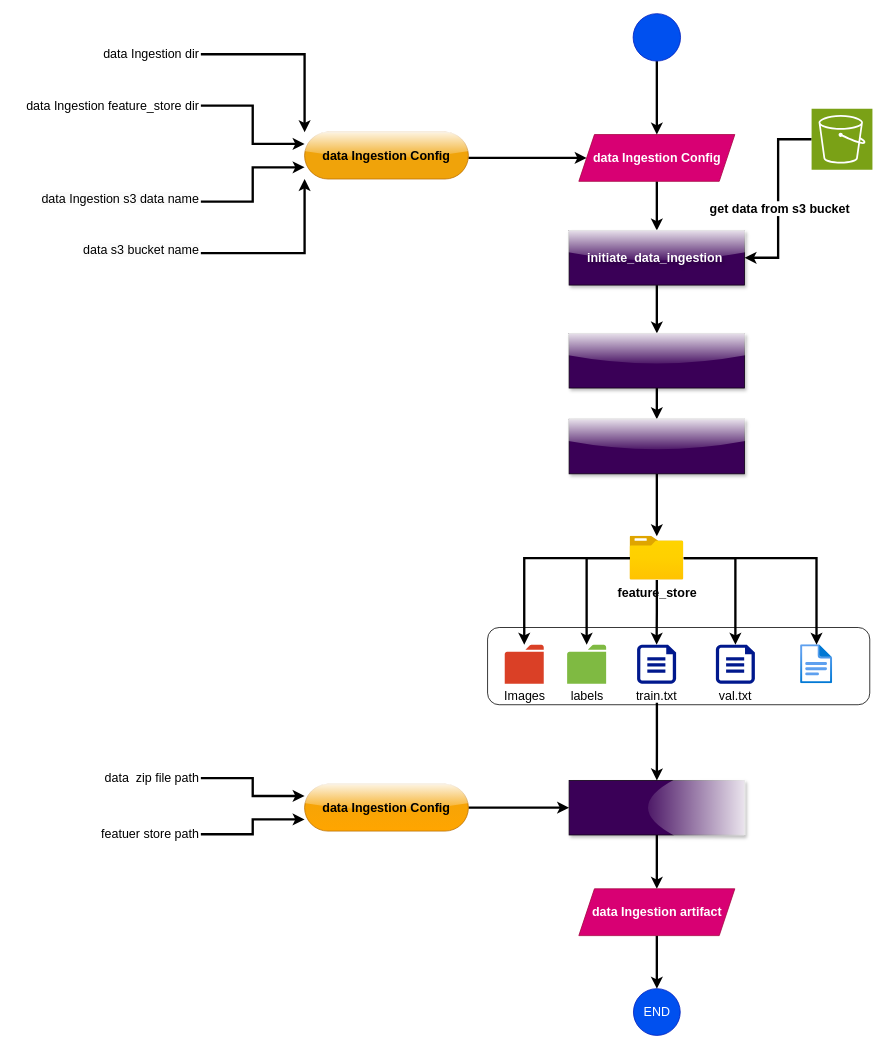
Image size: 886x1049. Some labels were removed from this diagram. Each missing label, with the centre of its shape:
classes.names: (x=816, y=663)
isd_data_mini.zip: (x=657, y=362)
prepare data ingestion artifacts: (x=657, y=808)
START: (x=656, y=37)
unzip: (x=657, y=447)
